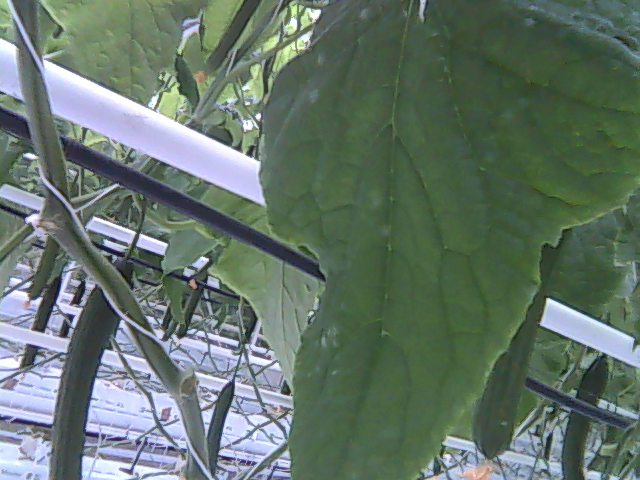concombre: (470, 223, 571, 480), (48, 255, 136, 480)
